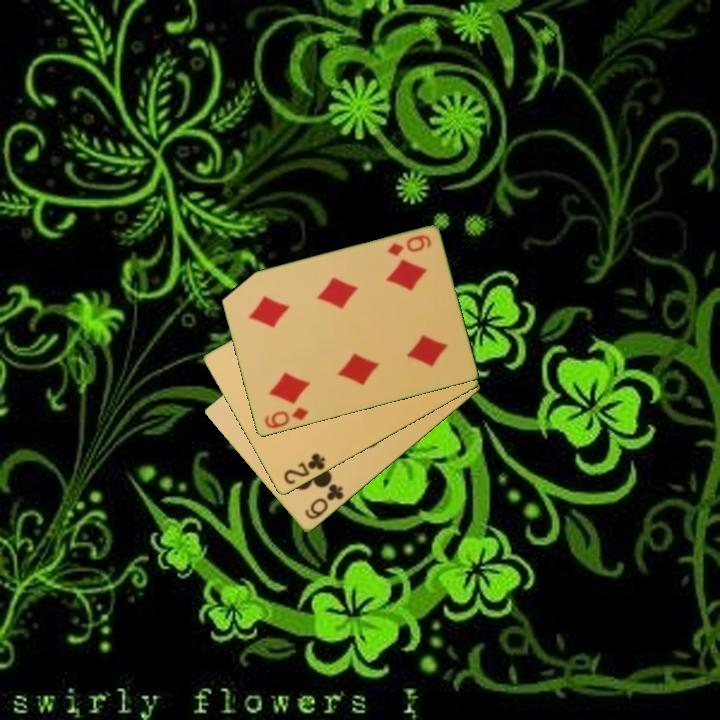2c: (280, 450, 328, 488)
6c: (301, 481, 347, 523)
6d: (383, 231, 434, 259), (261, 404, 311, 432)
